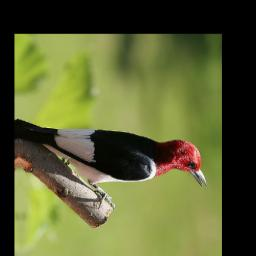Woodpecker: (18, 112, 210, 197)
